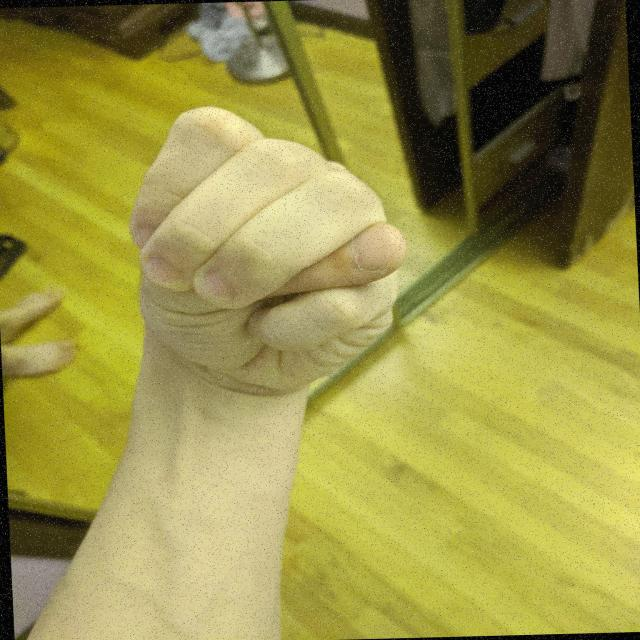M: (108, 96, 425, 398)
